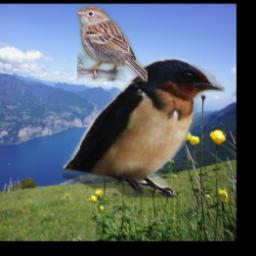Sparrow: (77, 6, 148, 82)
Swallow: (63, 58, 225, 198)
